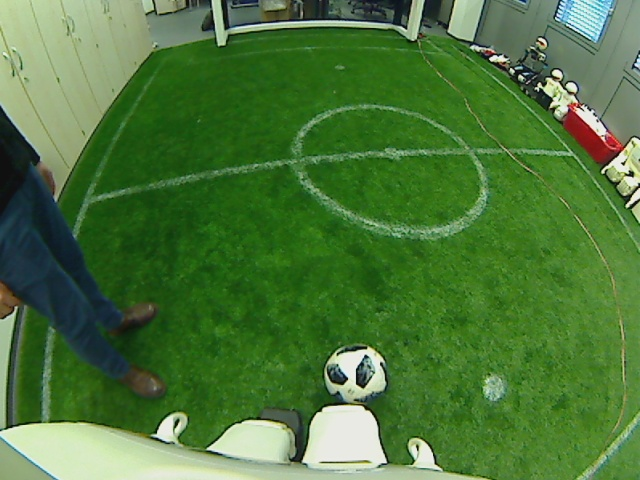ball: (320, 341, 391, 404)
